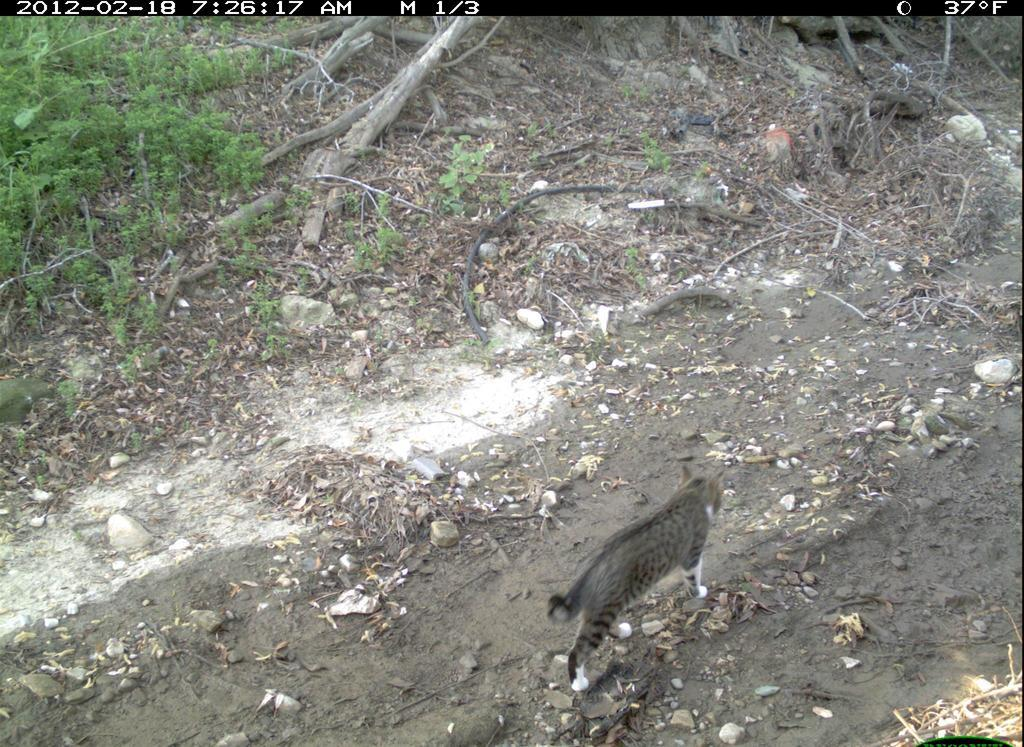cat: (538, 455, 733, 703)
